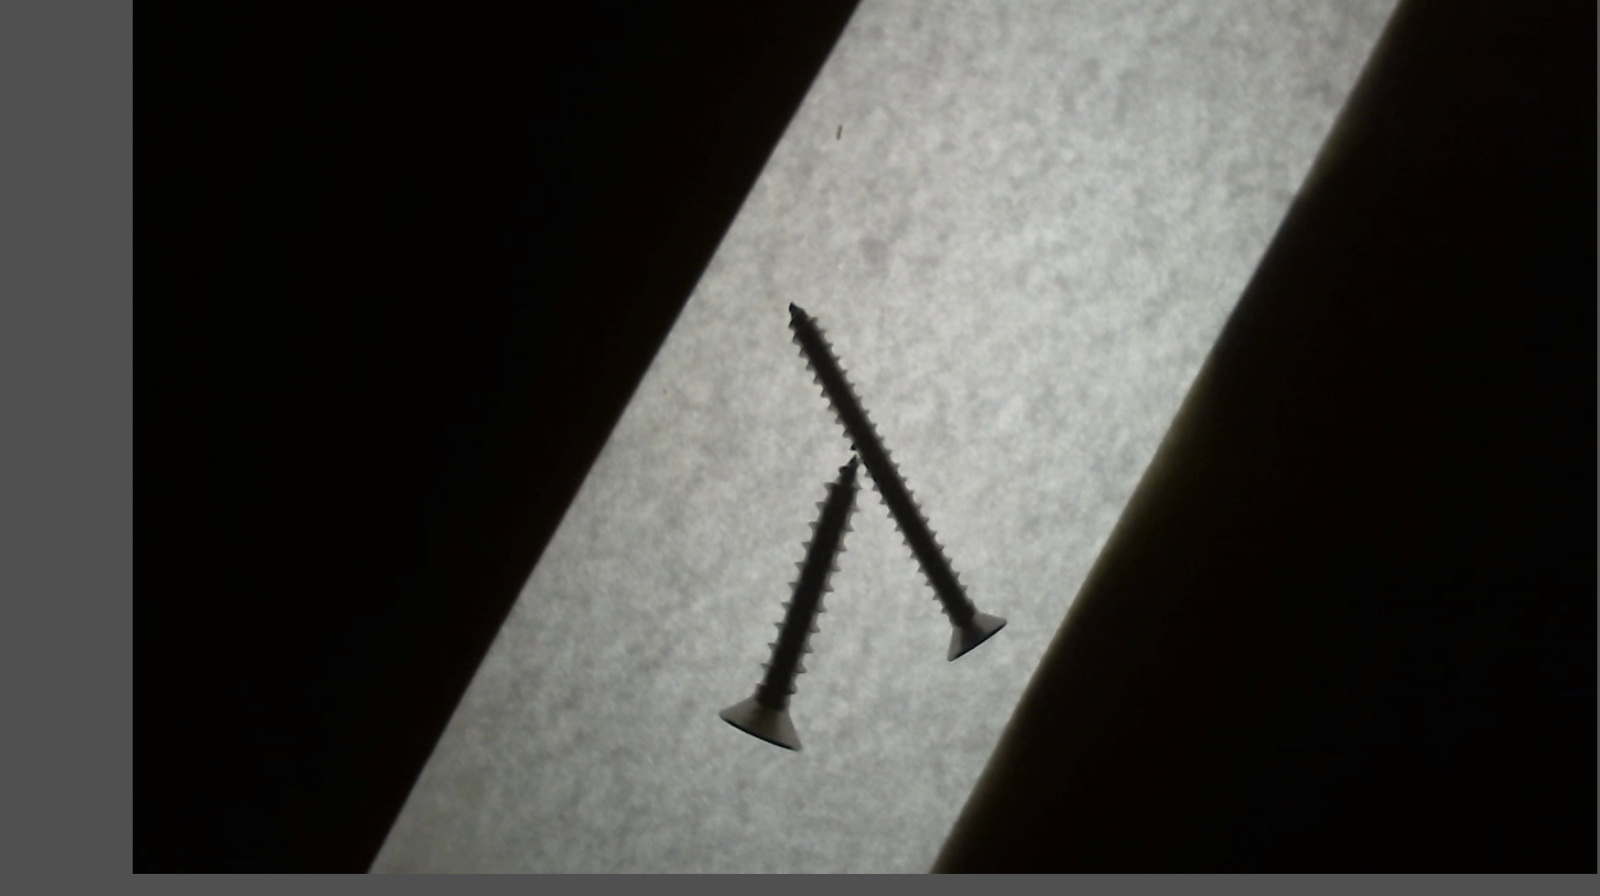S001: (715, 447, 852, 752)
S002: (786, 296, 1012, 662)
